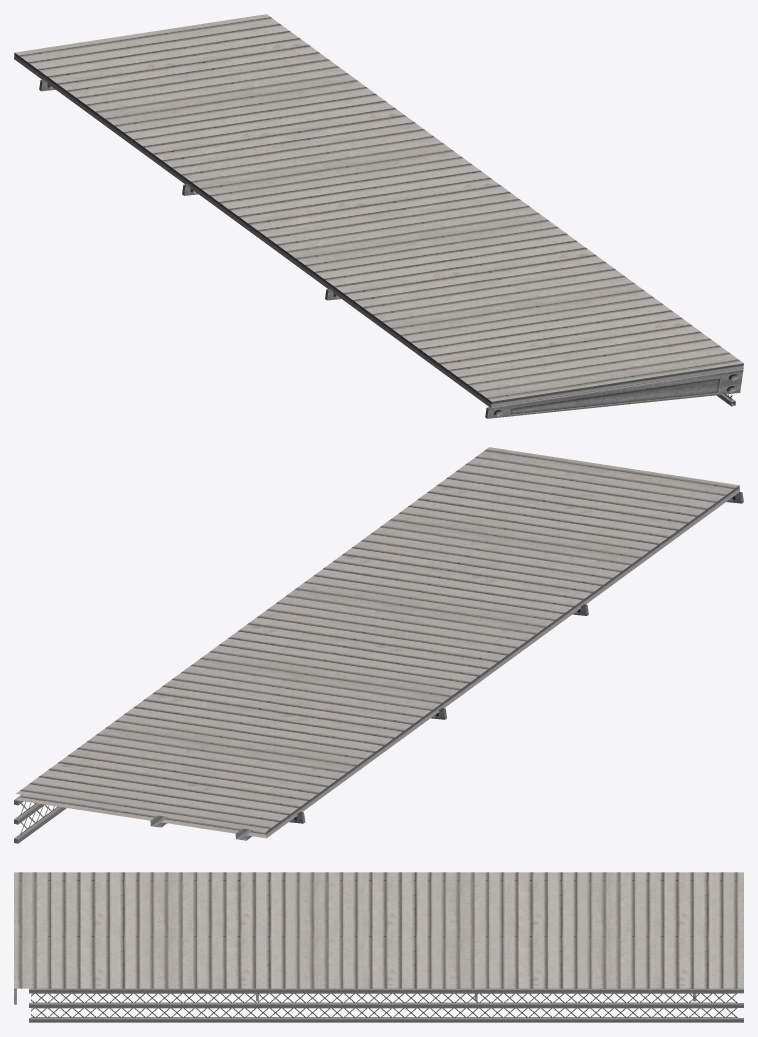
Rendered from roof_02.fbx.
3 views of the same model, one above another, from view 1: azimuth 30°, elevation 25°; view 2: azimuth 150°, elevation 25°; view 3: azimuth 270°, elevation 25° (orthographic). The views are drawn at different scales.
Visible parts, largest first — view 1: polySurface609; view 2: polySurface609; view 3: polySurface609.
Boxes of the visible parts, bbox=[...] form: polySurface609: bbox=[14, 14, 743, 418]; polySurface609: bbox=[14, 447, 743, 843]; polySurface609: bbox=[14, 872, 743, 1022].
Bounding box in the file's own units: 2241 × 599 × 7117.
2 materials, 2 textured.
